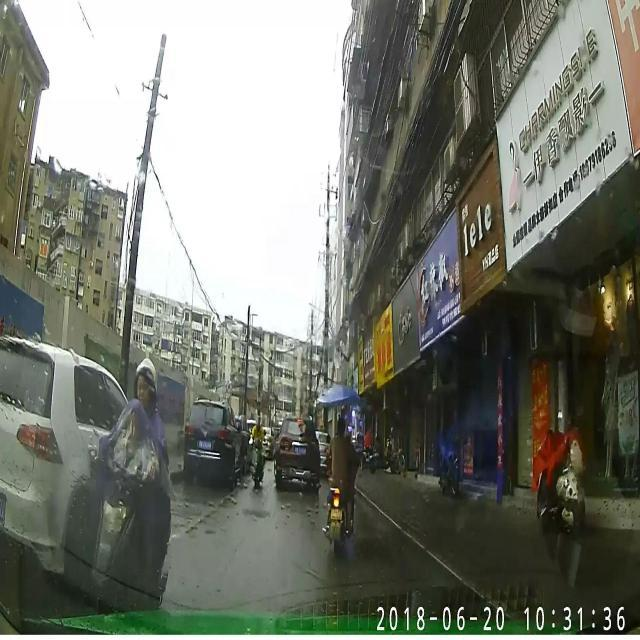car: (0, 333, 153, 594), (182, 395, 245, 486), (272, 412, 322, 492), (434, 427, 462, 497)
